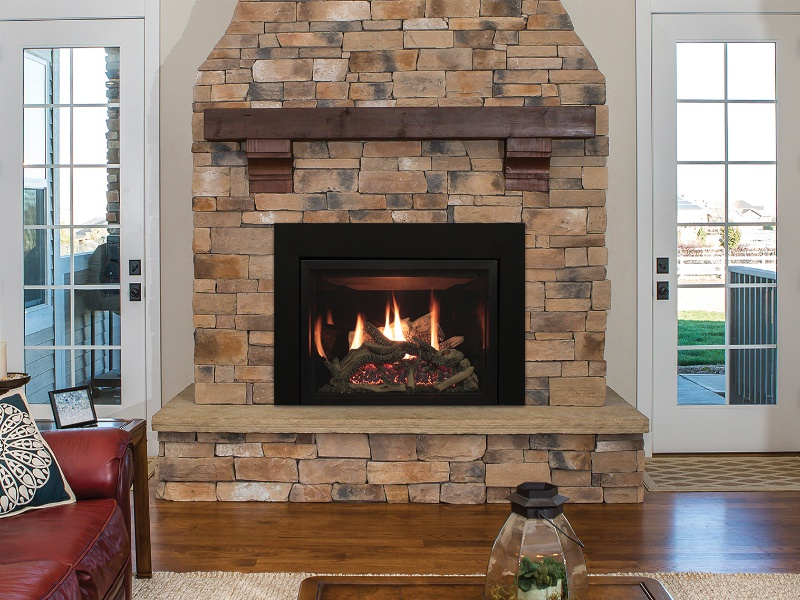fire: (313, 286, 462, 349)
